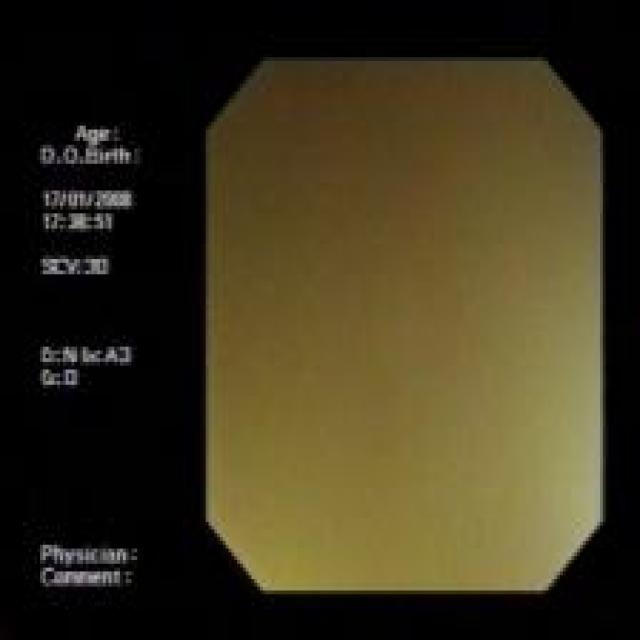color misalignment: (207, 58, 602, 590), (35, 117, 152, 602)
